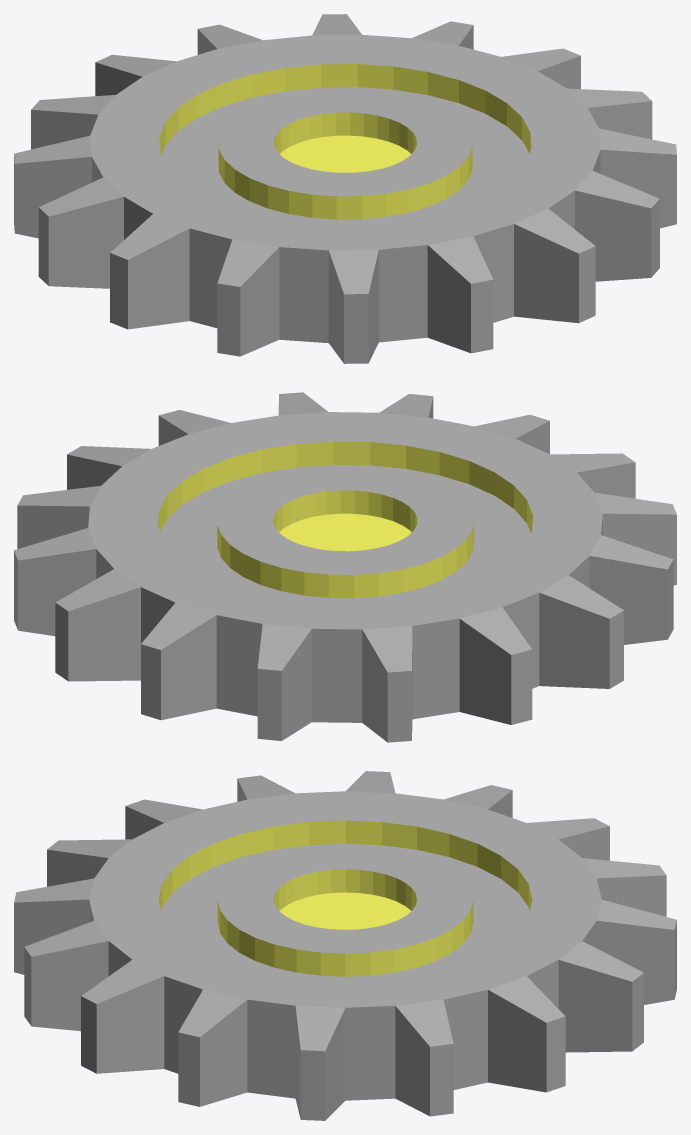
File: Cogwheel.fbx
3 views of the same model, one above another, from view 1: azimuth 30°, elevation 25°; view 2: azimuth 150°, elevation 25°; view 3: azimuth 270°, elevation 25° (orthographic).
Visible parts, largest first — view 1: Cylinder; view 2: Cylinder; view 3: Cylinder.
Part boxes in pixels (bbox=[...]): Cylinder: bbox=[14, 14, 676, 363]; Cylinder: bbox=[14, 392, 676, 742]; Cylinder: bbox=[14, 771, 676, 1120].
Size of the model in its own units: 259 by 40 by 259.
